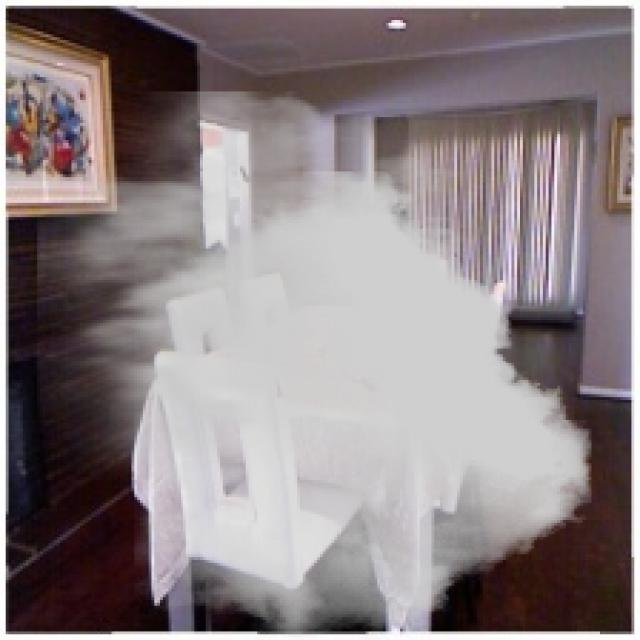smoke: (37, 92, 594, 637)
